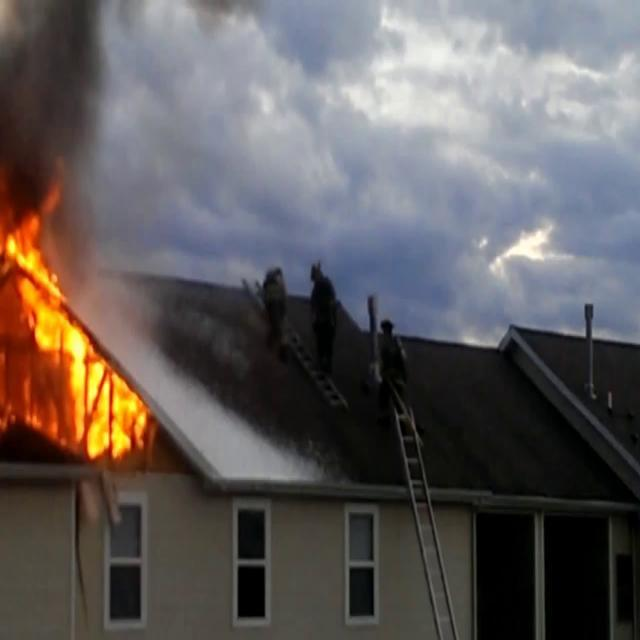Fire: (0, 212, 147, 458)
Smoke: (0, 0, 125, 254)
